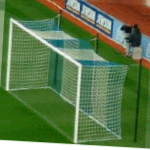goals: (6, 15, 124, 143)
